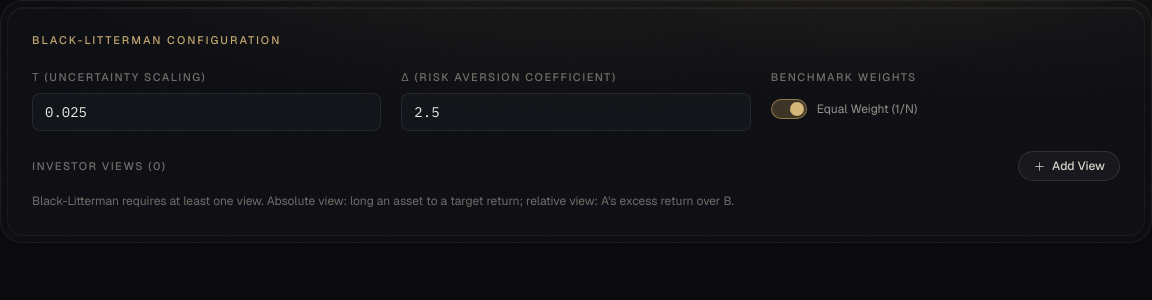
Scenario: BLConfigPanel › shows the empty hint until a view is added
Check: the text "requires at least one view" is shown, box [32, 193, 734, 209]
What coordinates should you click on to do the following:
click the button "Add View"
I would click on:
 (1069, 166)
Its box is [1018, 151, 1120, 181].
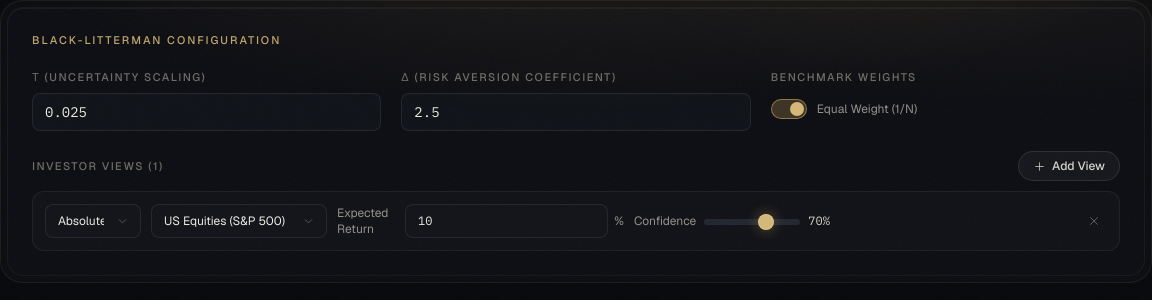
Check: the text "requires at least one view" is gone
